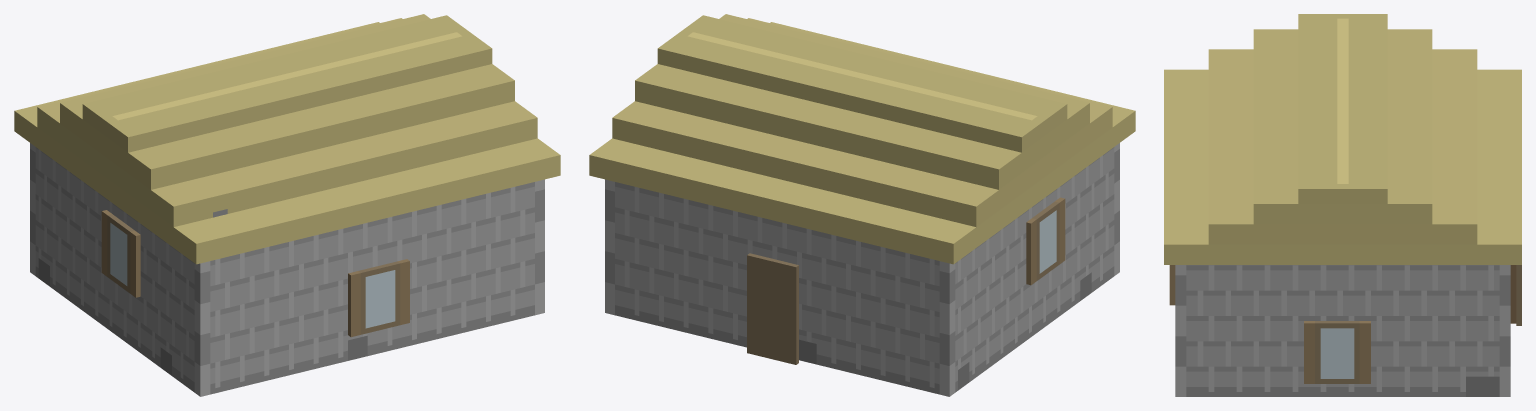
Rendered from campamento_hostil_03.glb.
3 views of the same model, side by side, from view 1: azimuth 30°, elevation 25°; view 2: azimuth 150°, elevation 25°; view 3: azimuth 270°, elevation 25° (orthographic).
Visible parts, largest first — view 1: campamento_hostil_03; view 2: campamento_hostil_03; view 3: campamento_hostil_03.
Part boxes in pixels (x1,y1,x2,y2): campamento_hostil_03: [14, 14, 560, 396]; campamento_hostil_03: [589, 14, 1135, 396]; campamento_hostil_03: [1164, 14, 1521, 396].
Bounding box in the file's own units: 7.4 × 4.2 × 6.4.
